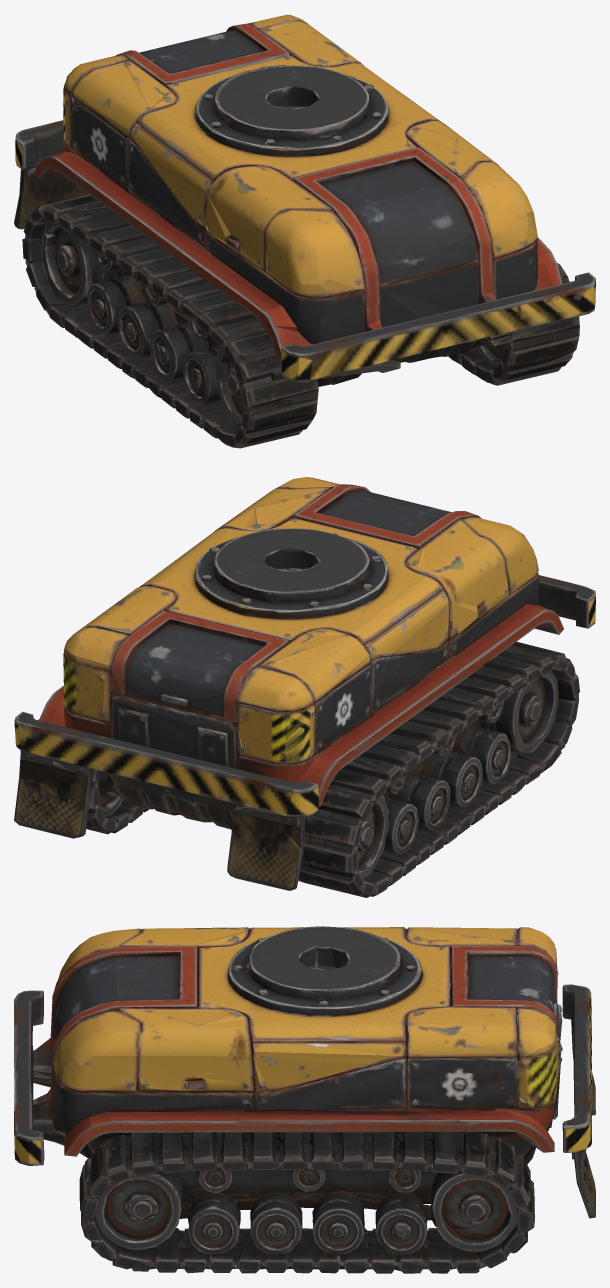
Rendered from crane_base.glb.
3 renders of one model, top to bottom at view 1: azimuth 30°, elevation 25°; view 2: azimuth 150°, elevation 25°; view 3: azimuth 270°, elevation 25°, orthographic.
Visible parts, largest first — view 1: crane_base; view 2: crane_base; view 3: crane_base.
Boxes of the visible parts, box(x1,y1,x2,y2) form: crane_base: box(14, 14, 595, 448); crane_base: box(14, 477, 595, 897); crane_base: box(14, 926, 595, 1273).
Size of the model in its own units: 3.4 by 2.36 by 5.2.
Materials: 1 (1 with a texture image).
